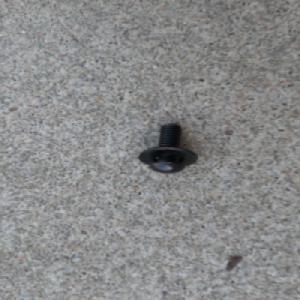BoltWasher: (137, 122, 199, 174)
